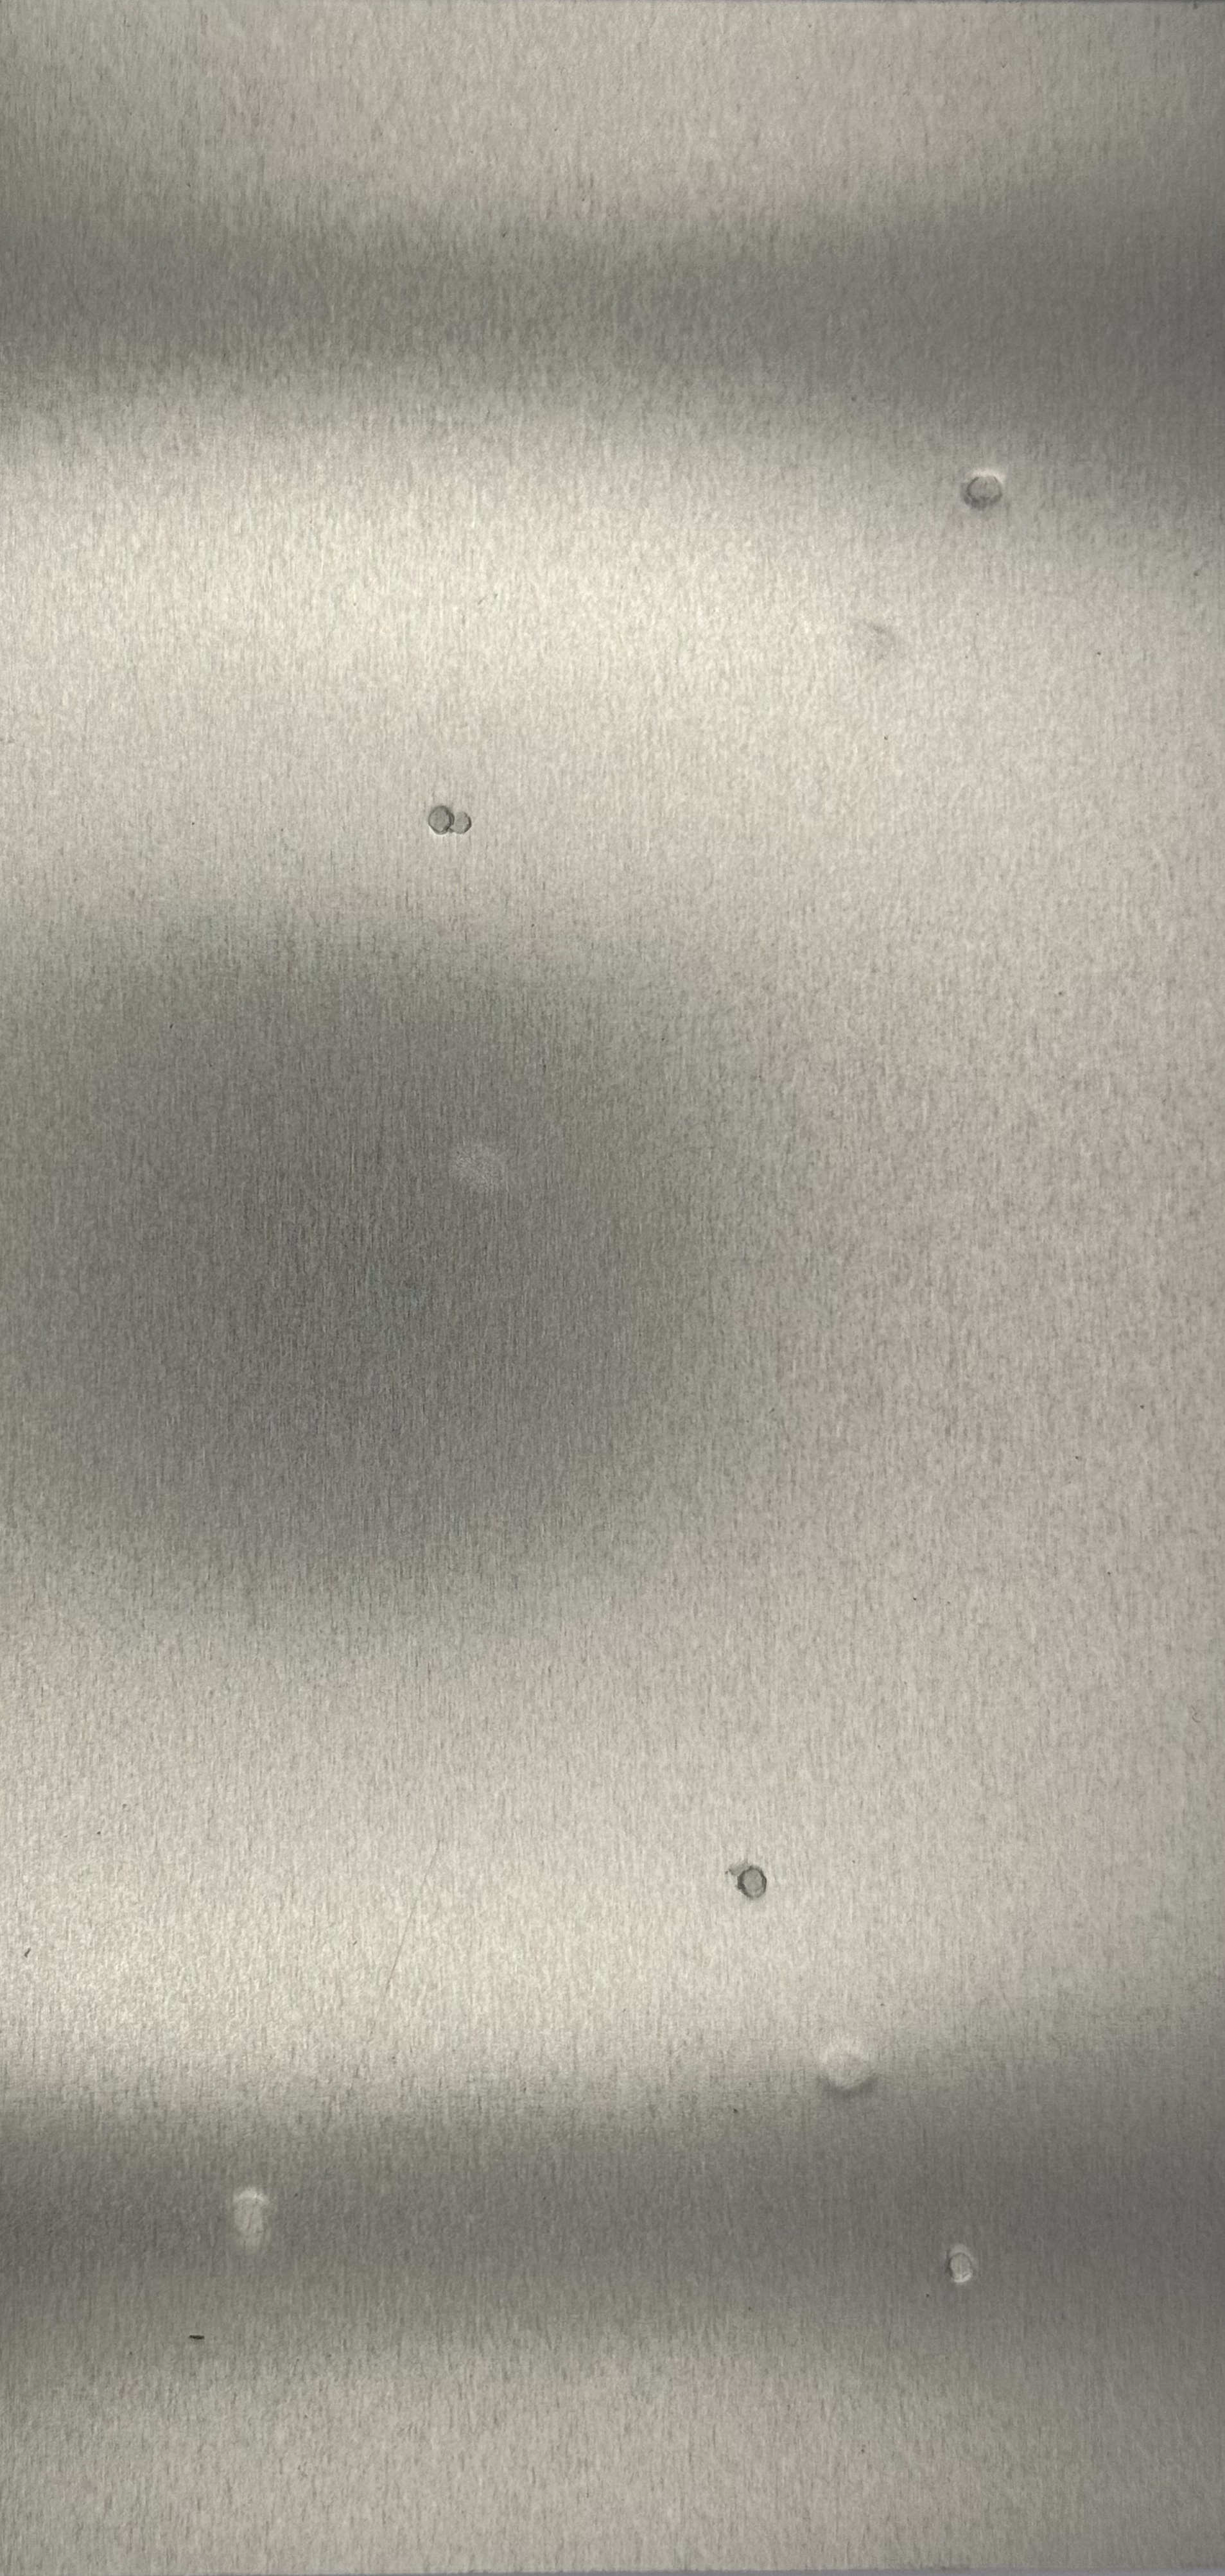Delle: (417, 1109, 576, 1226), (204, 2185, 312, 2272), (801, 2026, 895, 2119), (412, 784, 489, 861), (714, 1850, 791, 1924), (946, 462, 1025, 524), (931, 2233, 995, 2305)
